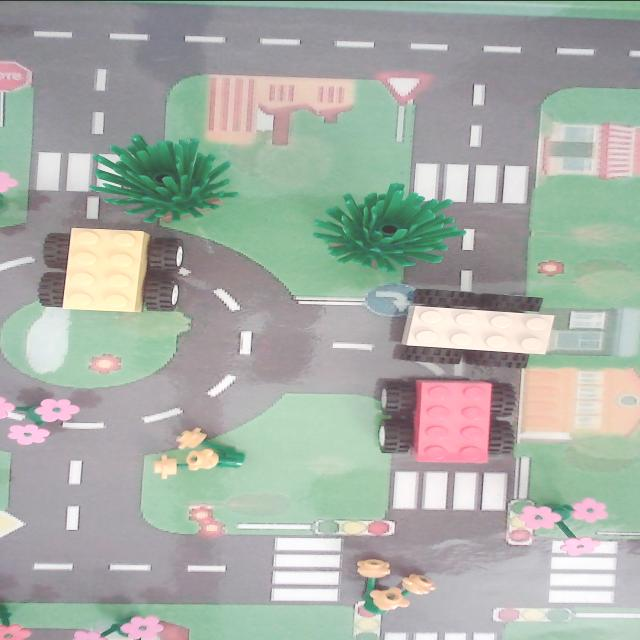Car: (18, 218, 198, 334), (354, 368, 542, 479), (380, 276, 562, 374)
Flower: (498, 486, 622, 560), (329, 556, 453, 620), (143, 420, 257, 483), (0, 384, 94, 454), (78, 594, 180, 640), (0, 598, 55, 640)
Tree: (288, 169, 476, 281), (78, 120, 250, 228)
